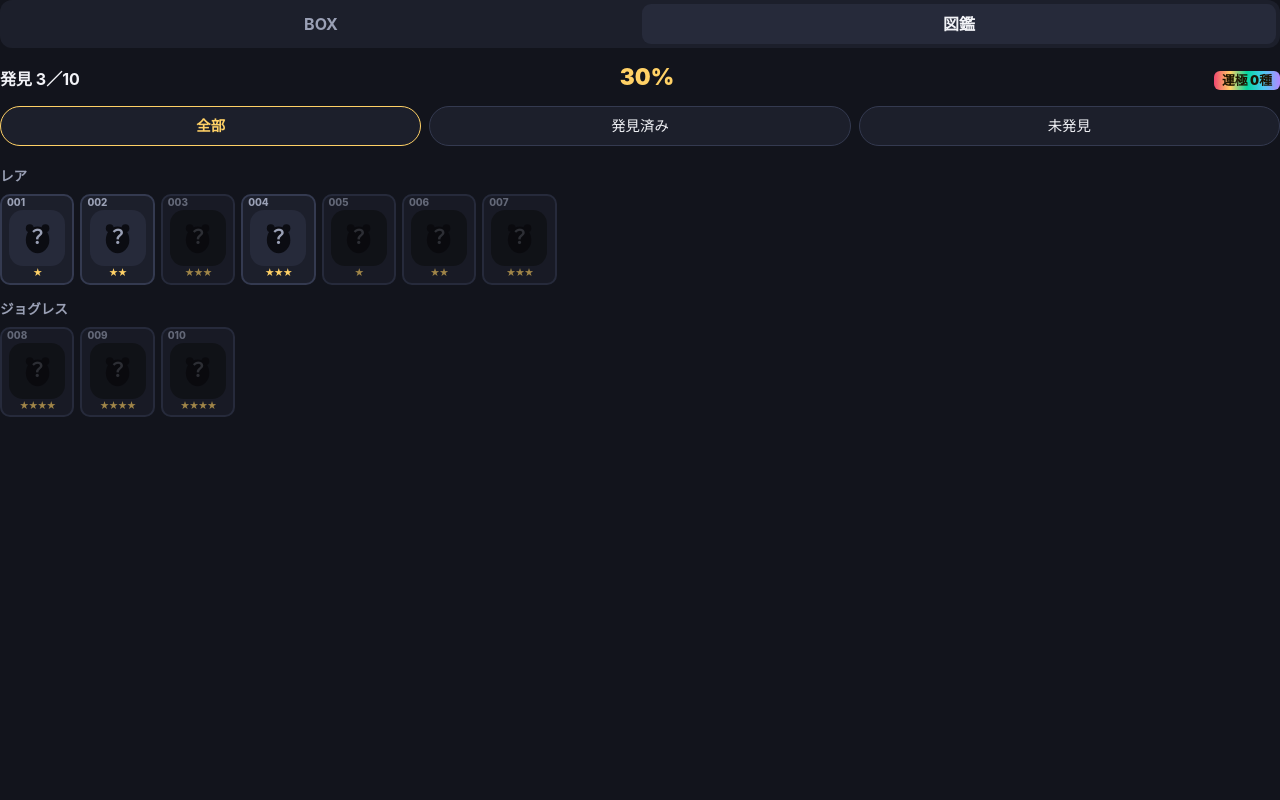
画面の表示 › 図鑑：持っていない姿も見られる。合体でいなくなった個体の発見も残る
# 隠しモンスターは名前を伏せたまま、タップするとレシピと進み具合が見える
What coordinates should you click on to do the following:
click the button named "No.8 未発見"
I would click on:
 (37, 372)
Its box is [0,327,74,417].
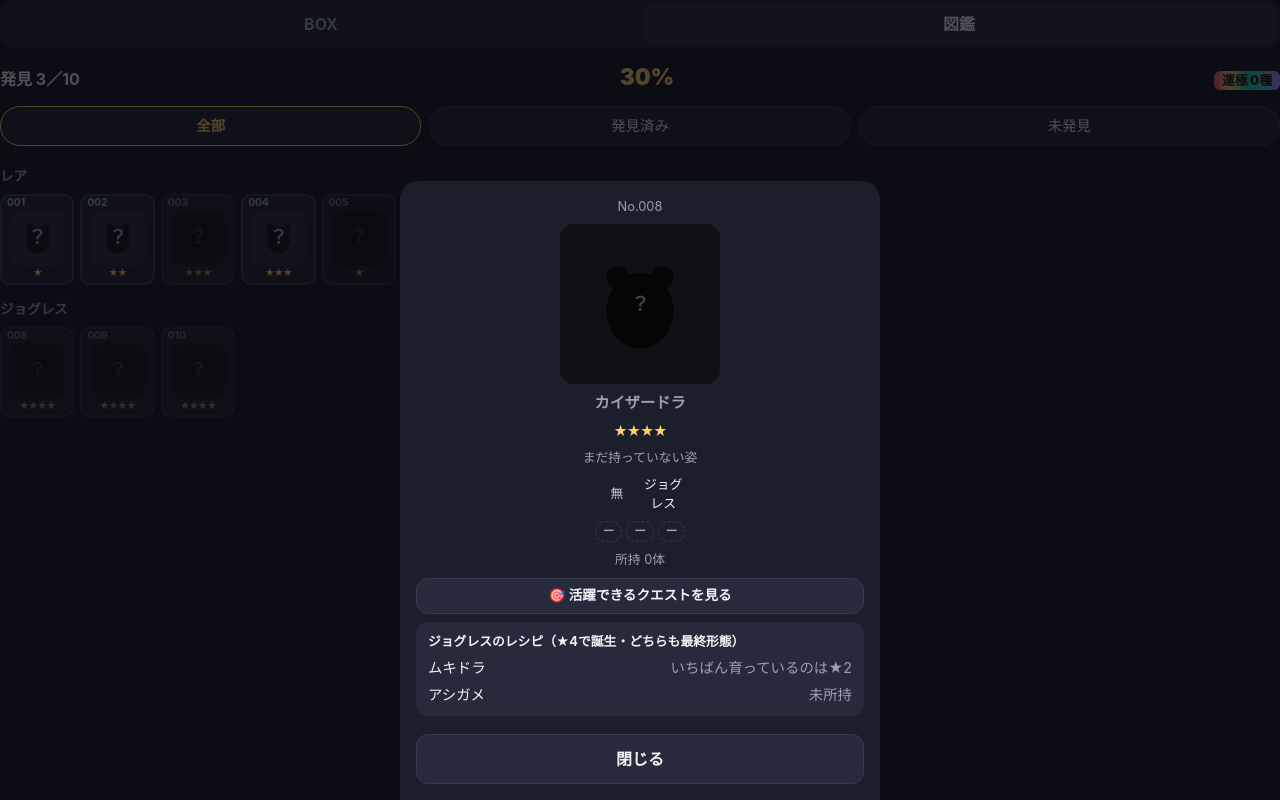
Now the element with class "sheet" shows "ジョグレスのレシピ", box [428,634,569,649]
Now the element with class "sheet" shows "カイザードラ", box [594,394,686,412]
